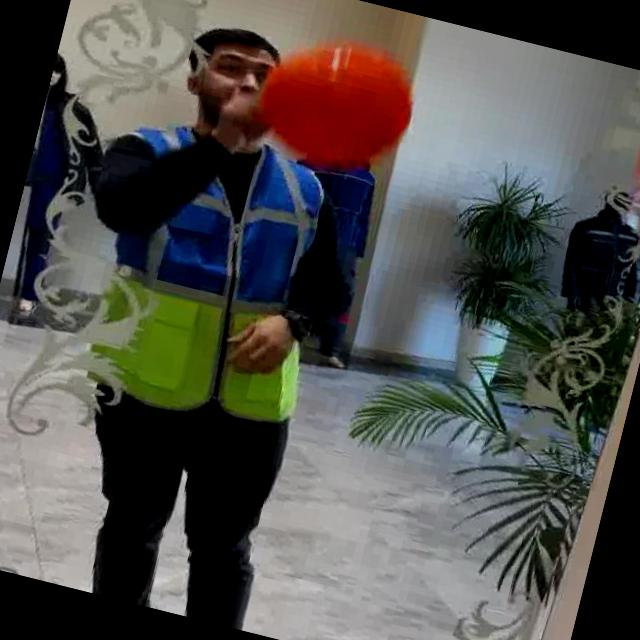helmet: (246, 22, 424, 180)
no-gloves: (184, 287, 332, 417)
no-helmet: (134, 0, 303, 187)
vest: (65, 110, 356, 443)
